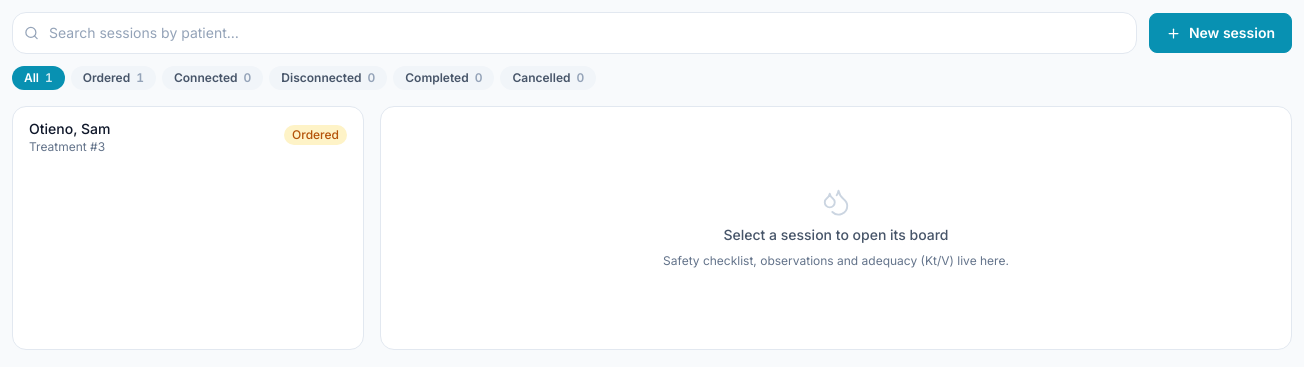
Scenario: OrdersTab › filters the list by search query
Expected: the text "Otieno, Sam" is shown, [29, 119, 110, 139]
Step 1. Type "zzz-no-match" into the search field → (574,33), box [12, 12, 1137, 54]
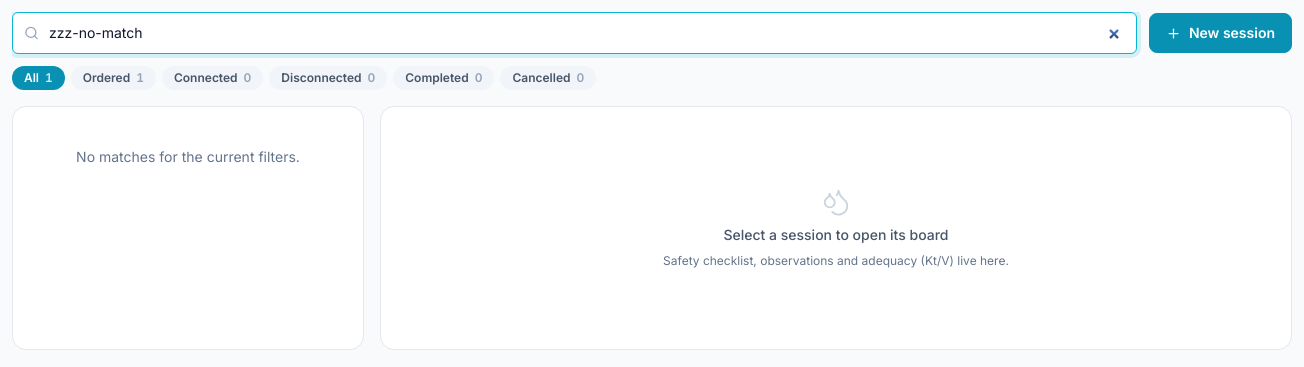
Now the button "Otieno, Sam" is gone
